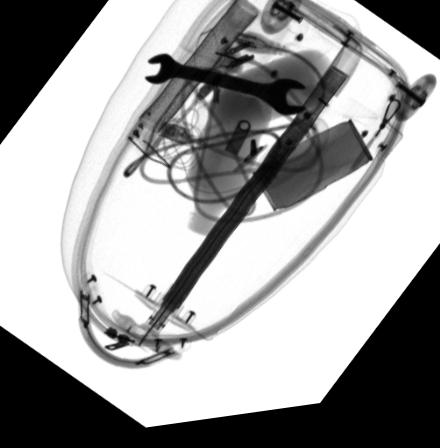Wrench: (144, 58, 307, 123)
